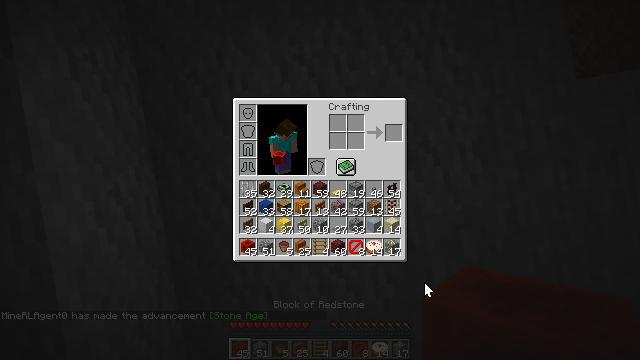cursor: (424, 282, 434, 298)
